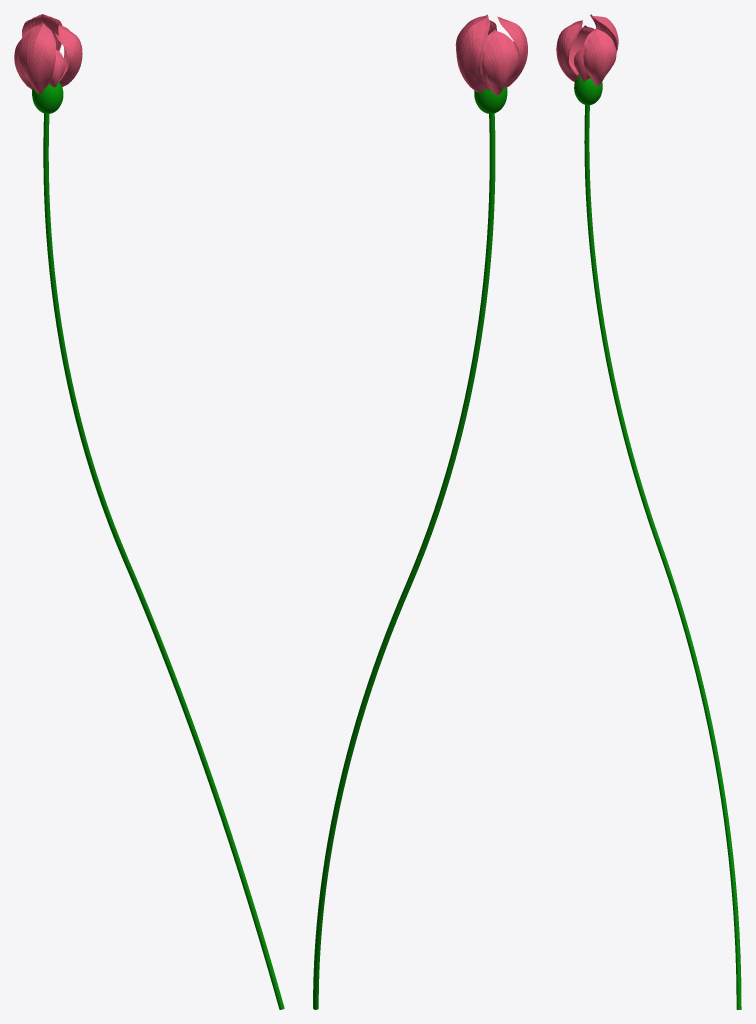
The model's file is Lotus012.fbx.
3 views of the same model, side by side, from view 1: azimuth 30°, elevation 25°; view 2: azimuth 150°, elevation 25°; view 3: azimuth 330°, elevation 25° (orthographic). The views are drawn at different scales.
Visible parts, largest first — view 1: pCylinder5, nurbsToPoly11, nurbsToPoly24, pSphere4; view 2: pCylinder5, nurbsToPoly10, nurbsToPoly12, nurbsToPoly11, pSphere4; view 3: pCylinder5, nurbsToPoly24, nurbsToPoly11, pSphere4.
Part boxes in pixels (bbox=[...]): pCylinder5: bbox=[43, 113, 284, 1009]; nurbsToPoly11: bbox=[17, 22, 55, 93]; nurbsToPoly24: bbox=[58, 24, 82, 86]; pSphere4: bbox=[32, 81, 63, 113]; pCylinder5: bbox=[313, 113, 495, 1009]; nurbsToPoly10: bbox=[455, 14, 489, 92]; nurbsToPoly12: bbox=[480, 29, 518, 95]; nurbsToPoly11: bbox=[497, 16, 527, 87]; pSphere4: bbox=[474, 86, 507, 113]; pCylinder5: bbox=[584, 105, 741, 1009]; nurbsToPoly24: bbox=[583, 28, 616, 86]; nurbsToPoly11: bbox=[556, 20, 582, 81]; pSphere4: bbox=[574, 74, 602, 105].
Size of the model in its own units: 49.32 by 207 by 20.08.
